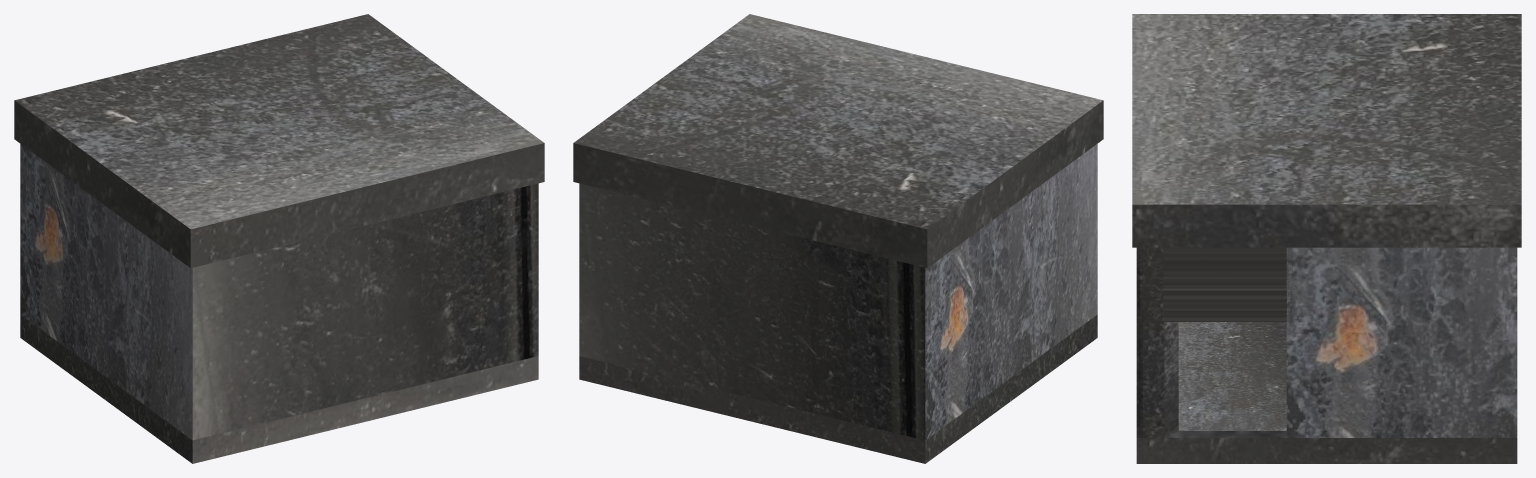
File: machine_room.obj
The picture shows the model from 3 angles, left to right: view 1: azimuth 30°, elevation 25°; view 2: azimuth 150°, elevation 25°; view 3: azimuth 270°, elevation 25°; orthographic projection. The views are drawn at different scales.
Visible parts, largest first — view 1: Cube.006_Cube.007; view 2: Cube.006_Cube.007; view 3: Cube.006_Cube.007.
Part boxes in pixels (x1,y1,x2,y2): Cube.006_Cube.007: [14, 14, 544, 463]; Cube.006_Cube.007: [573, 14, 1103, 463]; Cube.006_Cube.007: [1132, 14, 1521, 463].
Size of the model in its own units: 10.66 by 6.82 by 9.2.
